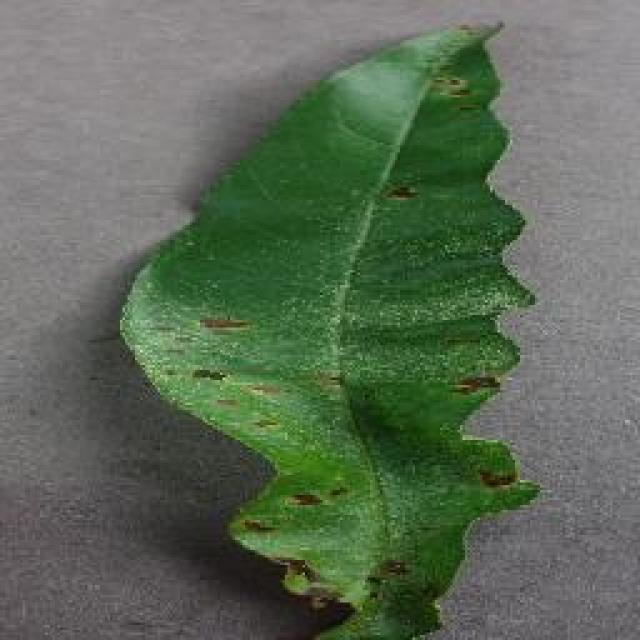Peach_Bacterial_Spot: (167, 270, 483, 603)
